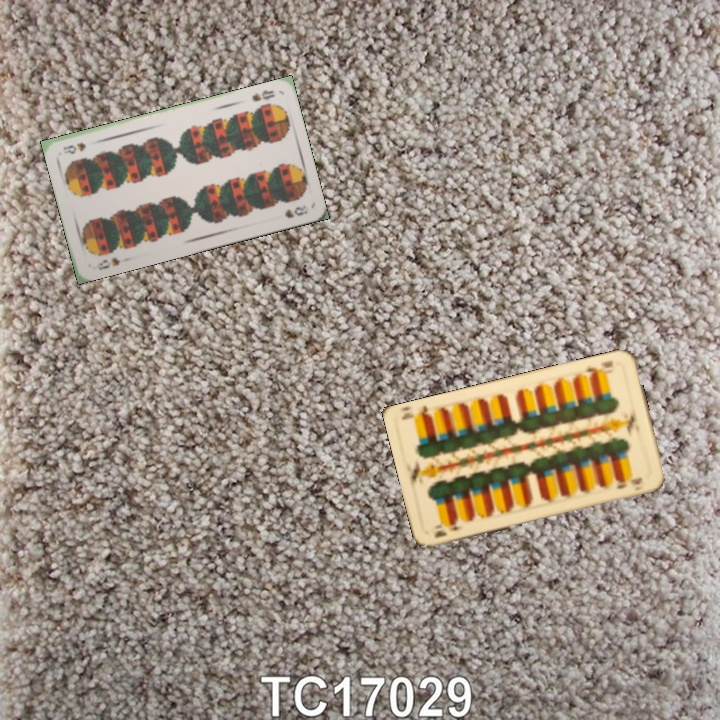E10: (581, 356, 616, 380), (430, 517, 466, 540)
S8: (88, 253, 123, 273), (248, 86, 277, 104)
